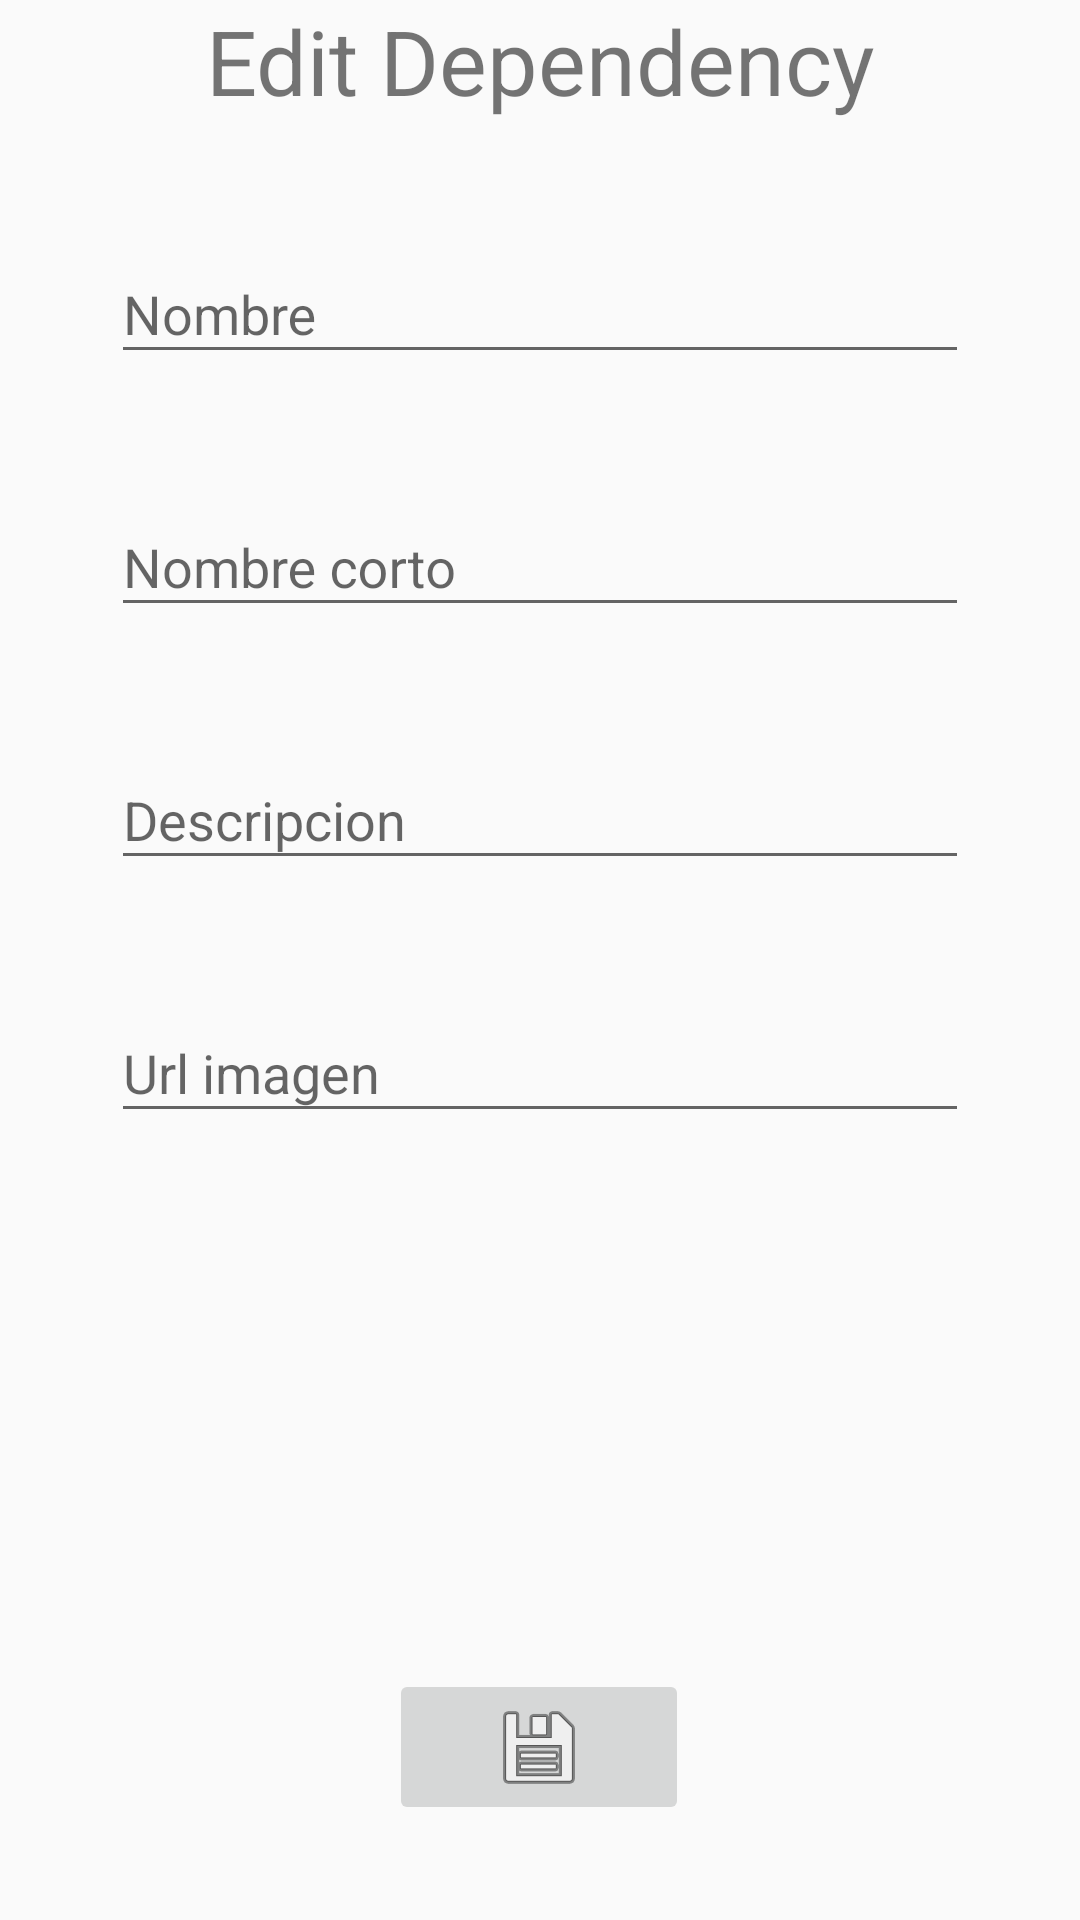

Where to tap for icons on this 1080 × 1920 app screen, as (x,y):
save: (539,1747)
